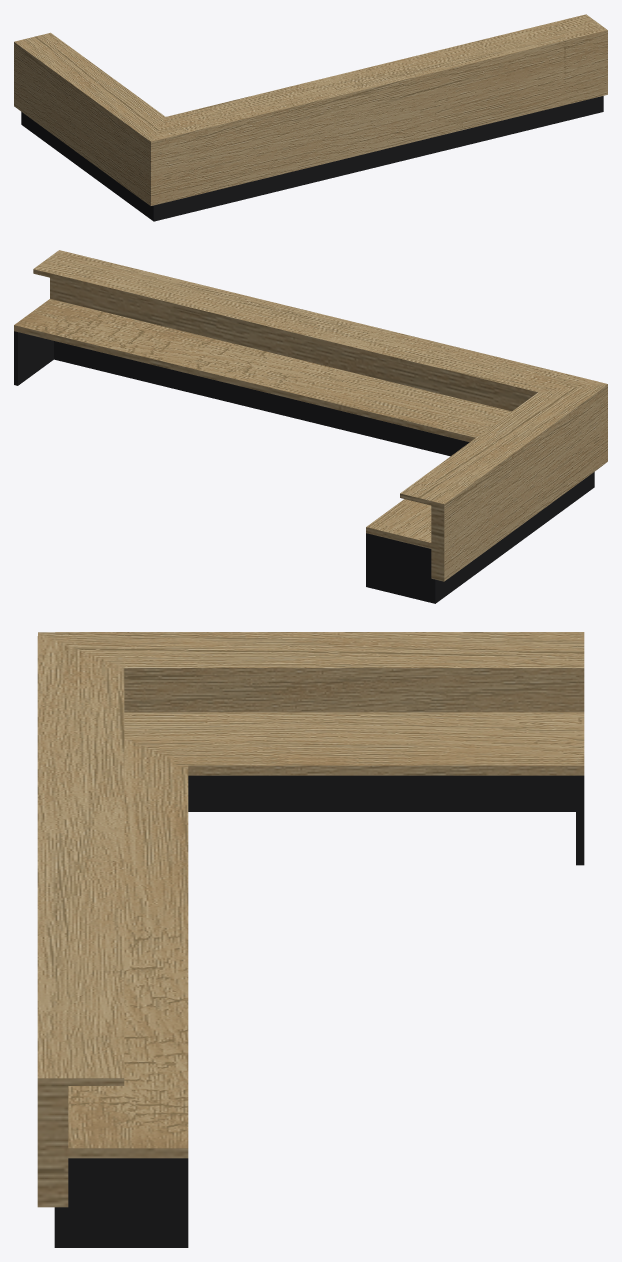
Rendered from loan_desk.fbx.
3 renders of one model, top to bottom at view 1: azimuth 30°, elevation 25°; view 2: azimuth 150°, elevation 25°; view 3: azimuth 270°, elevation 25°, orthographic. The views are drawn at different scales.
Parts seen in each view (by area): view 1: loan_desk; view 2: loan_desk; view 3: loan_desk.
Part boxes in pixels (x1,y1,x2,y2): loan_desk: [14, 14, 607, 221]; loan_desk: [14, 250, 607, 603]; loan_desk: [37, 632, 584, 1247].
Size of the model in its own units: 0.0453 by 0.00803 by 0.0235.
Materials: 1 (1 with a texture image).
